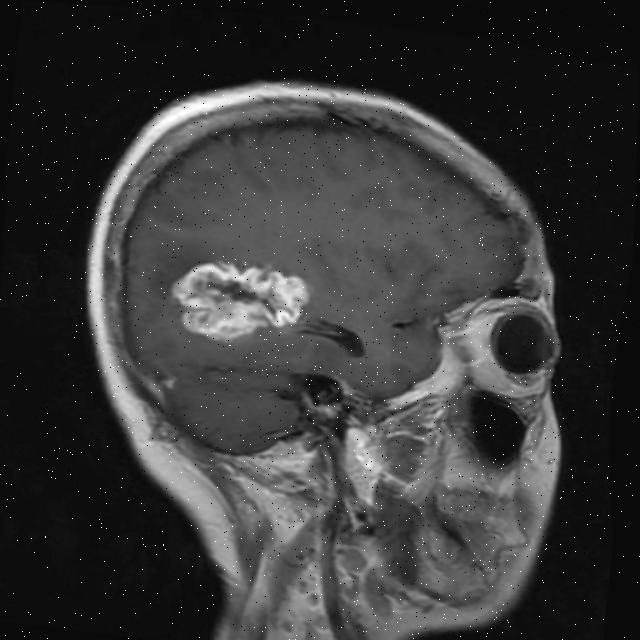Glioma: (165, 252, 313, 352)
